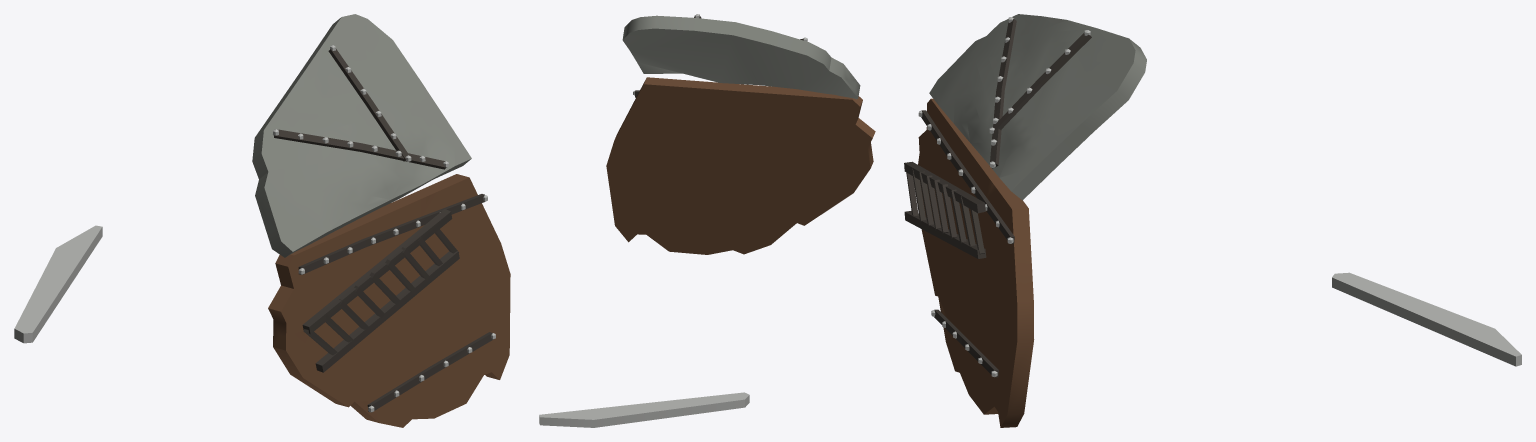
File: crash-site-spaceship-wreck-small-1.glb
The picture shows the model from 3 angles, left to right: view 1: azimuth 30°, elevation 25°; view 2: azimuth 150°, elevation 25°; view 3: azimuth 270°, elevation 25°; orthographic projection. The views are drawn at different scales.
Visible parts, largest first — view 1: body; view 2: body; view 3: body.
Part boxes in pixels (x1,y1,x2,y2): body: [14, 14, 510, 427]; body: [539, 14, 875, 427]; body: [904, 14, 1521, 427].
Bounding box in the file's own units: 1.75 × 1.76 × 2.8.
